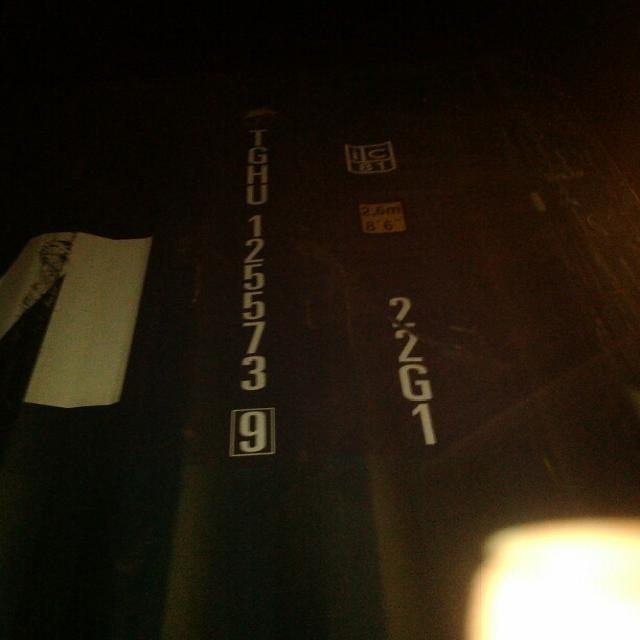rust: (556, 147, 640, 320), (15, 233, 82, 342)
